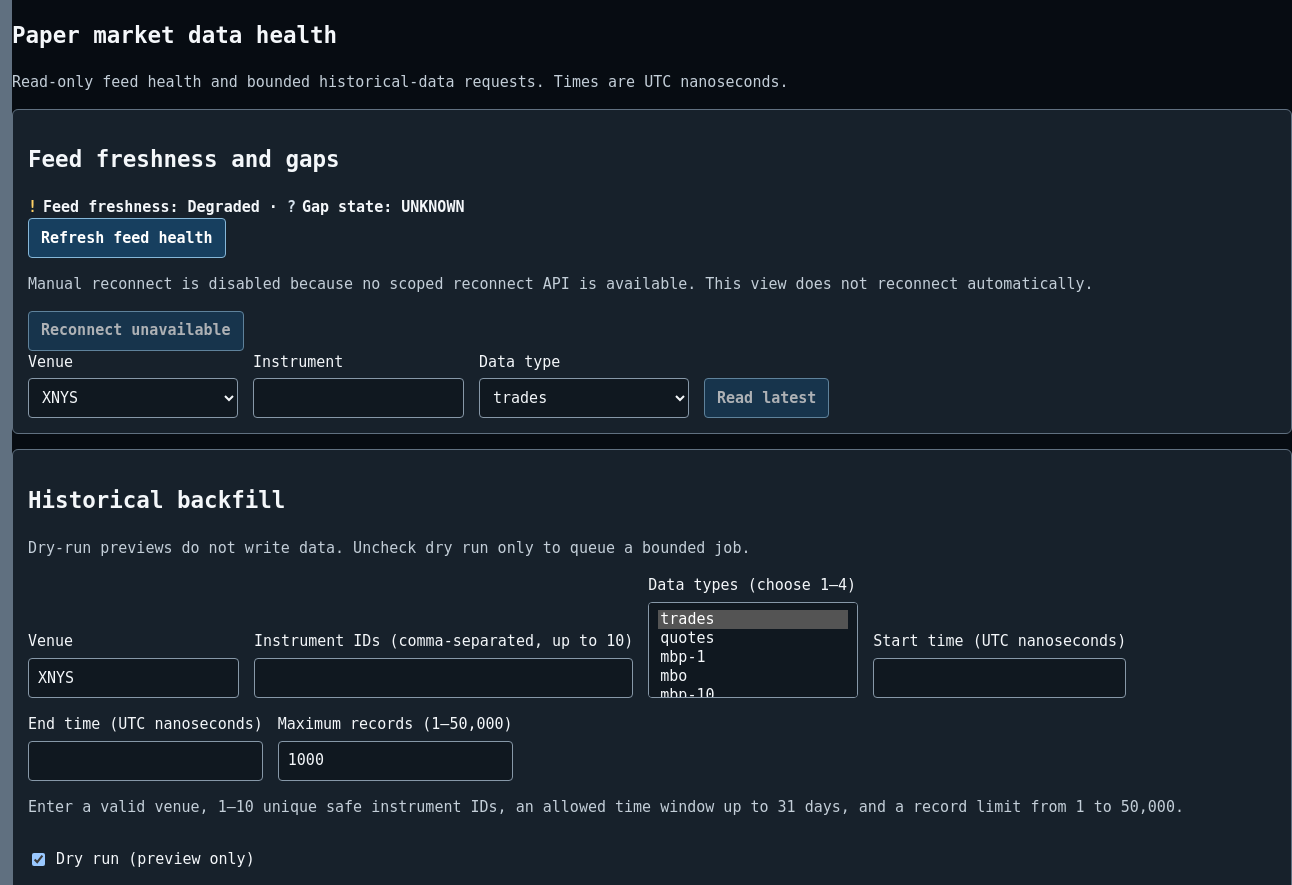
Test: PAPER-MARKET-DATA-HEALTH-UI-001 independent acceptance › keeps the last successful snapshot marked stale when a later read errors
Type "AAPL" into the field named "Latest data instrument".
click(358, 398); type("AAPL")  # box [253,378,464,418]
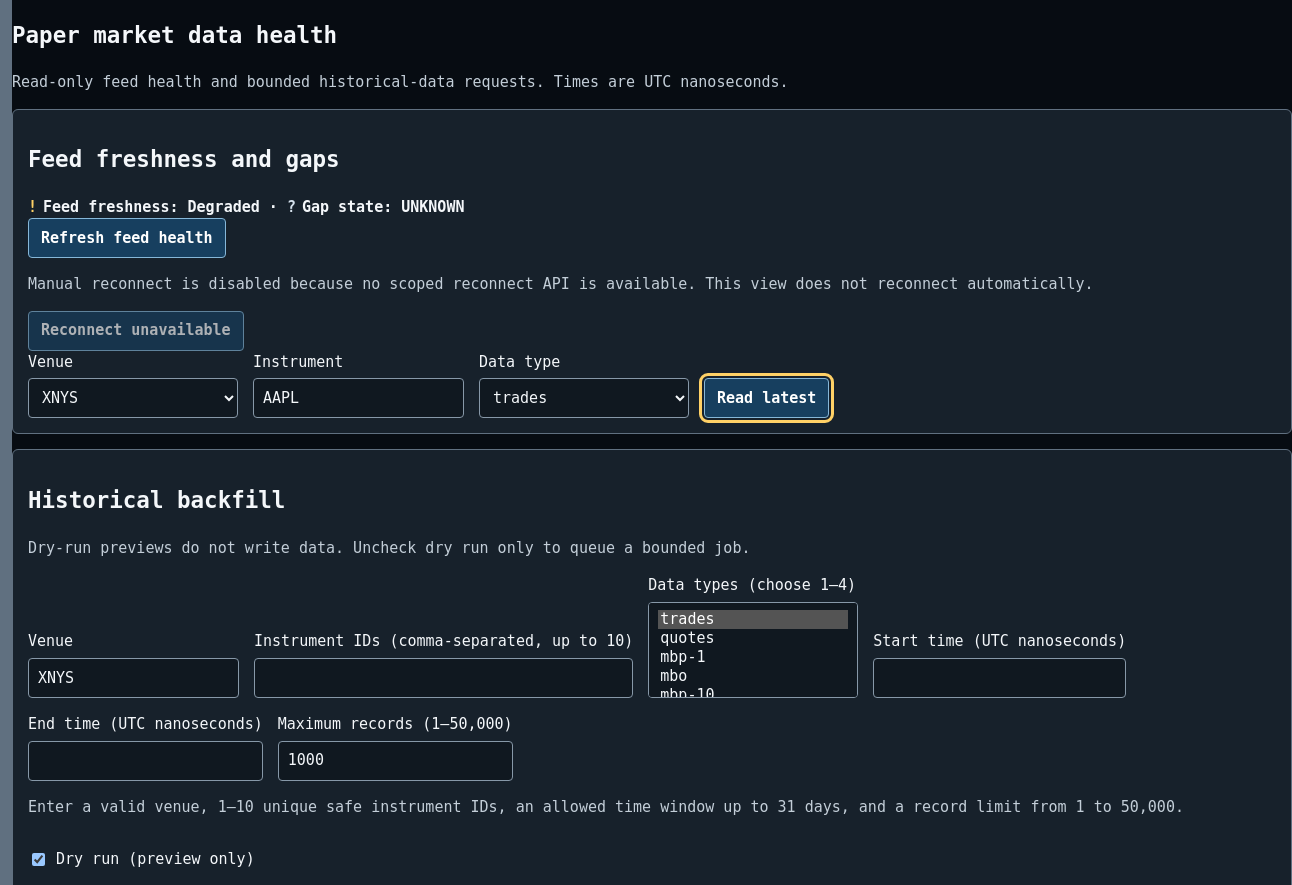
Press Enter in the button "Read latest", box [704,378,829,418]
Click the button "Read latest".
click(767, 398)  # box [704,378,829,418]
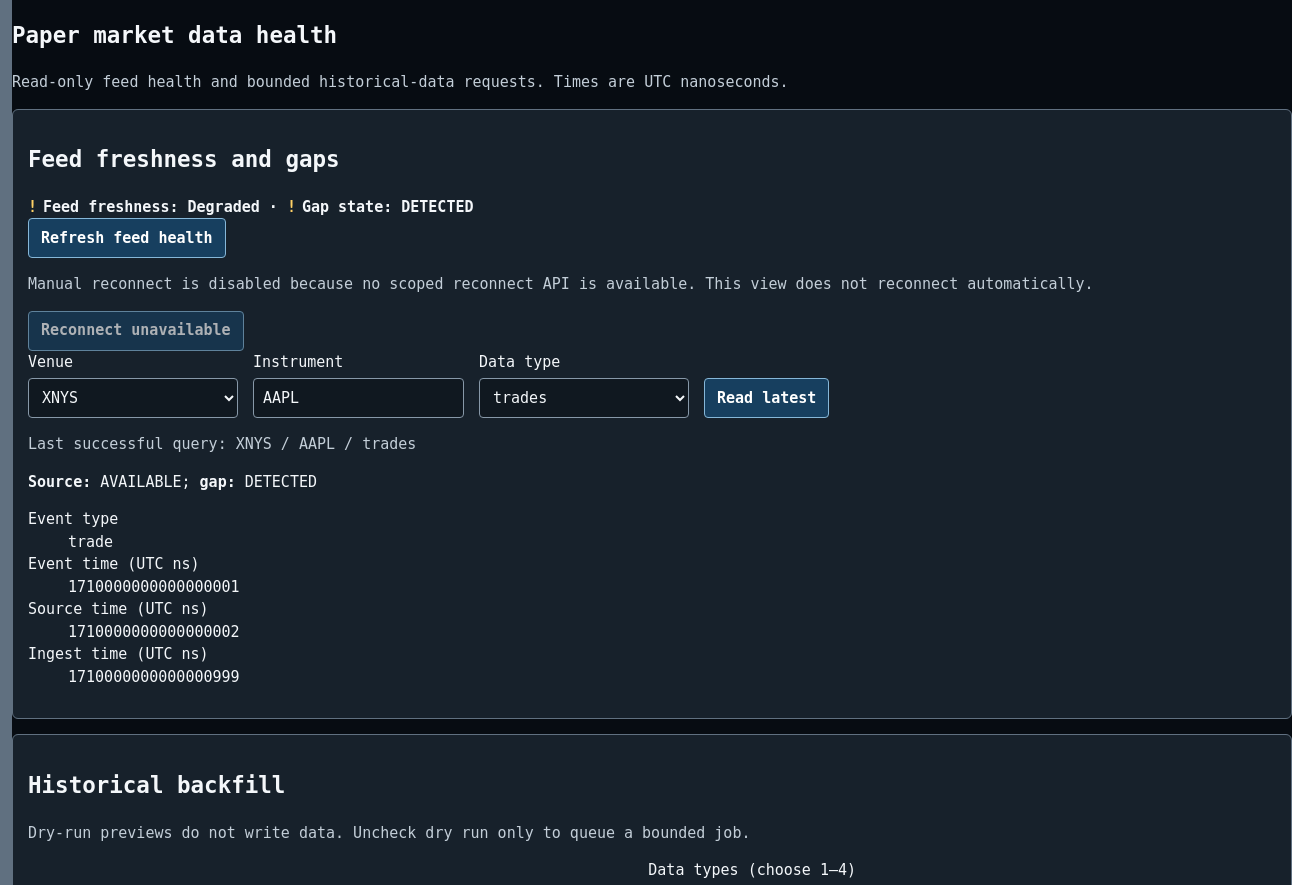
Check: the text "1710000000000000001" is shown, box [68,578,240,596]
Check: the text "1710000000000000999" is shown, box [68,668,240,686]
Check: the text "Gap state: DETECTED" is shown, box [302,198,474,216]
Click the button "Read latest".
click(767, 398)  # box [704,378,829,418]
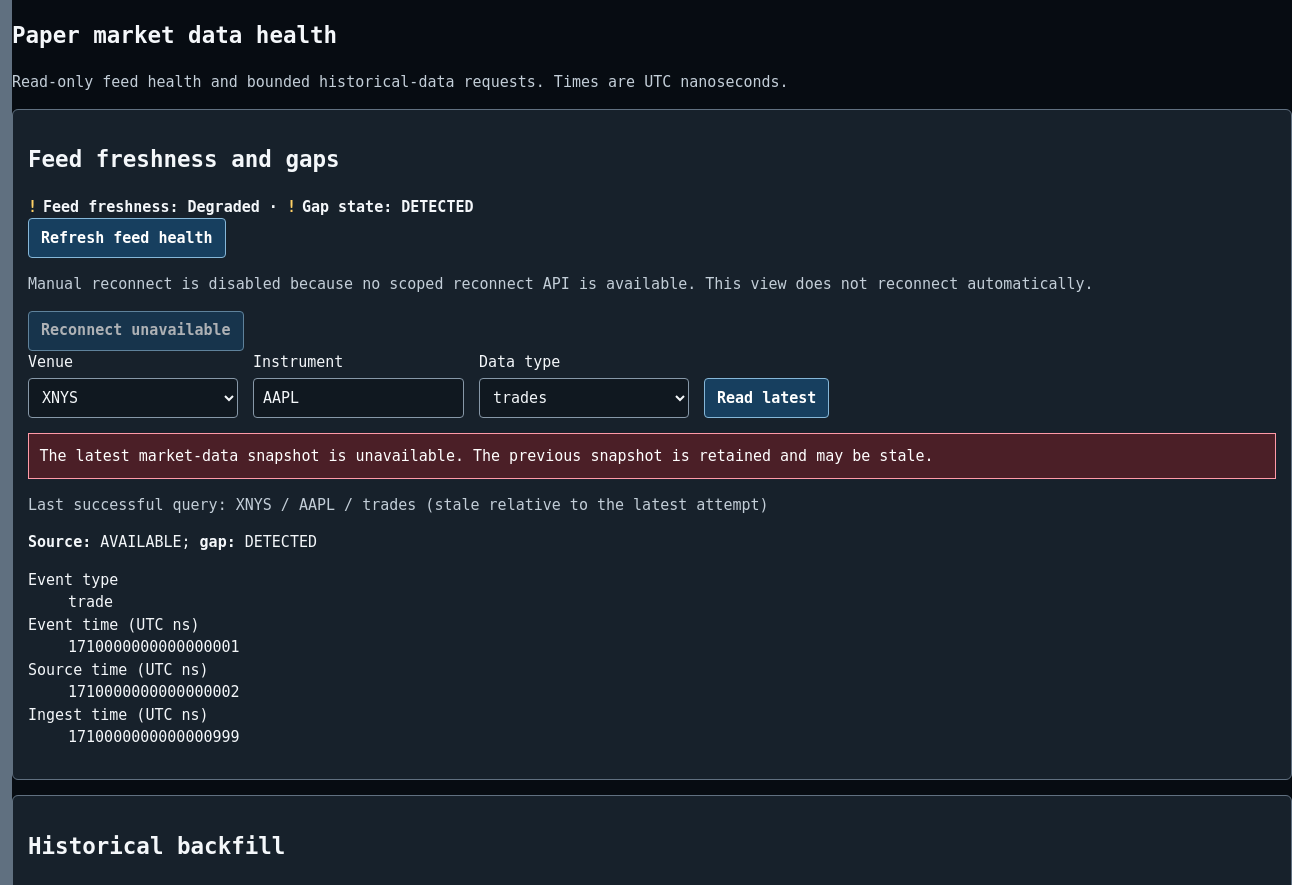
Check: the text "1710000000000000001" is shown, box [68,638,240,656]
Check: the 2nd message shows "latest market-data snapshot is unavailable", box [40,447,464,465]
Check: the 2nd message shows "previous snapshot is retained and may be stale", box [464,447,934,465]
